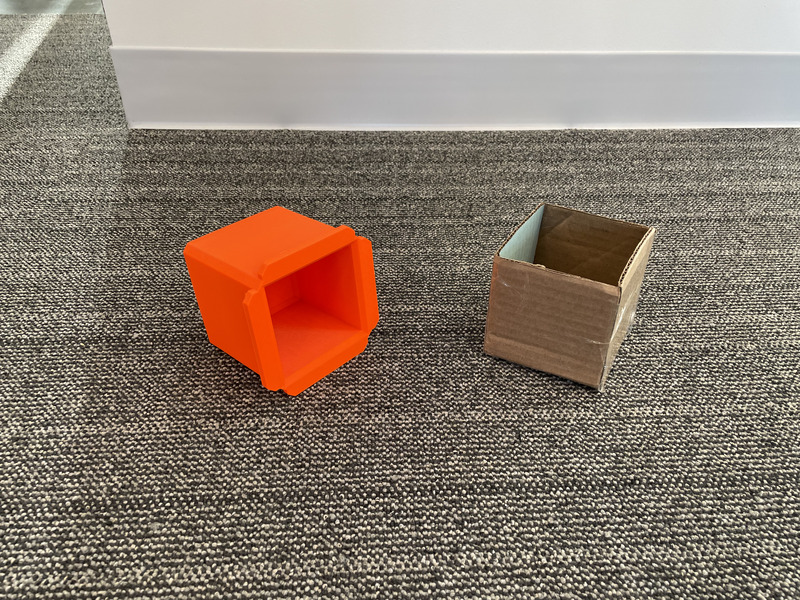payload1: (180, 202, 392, 406)
payload3: (480, 197, 662, 398)
